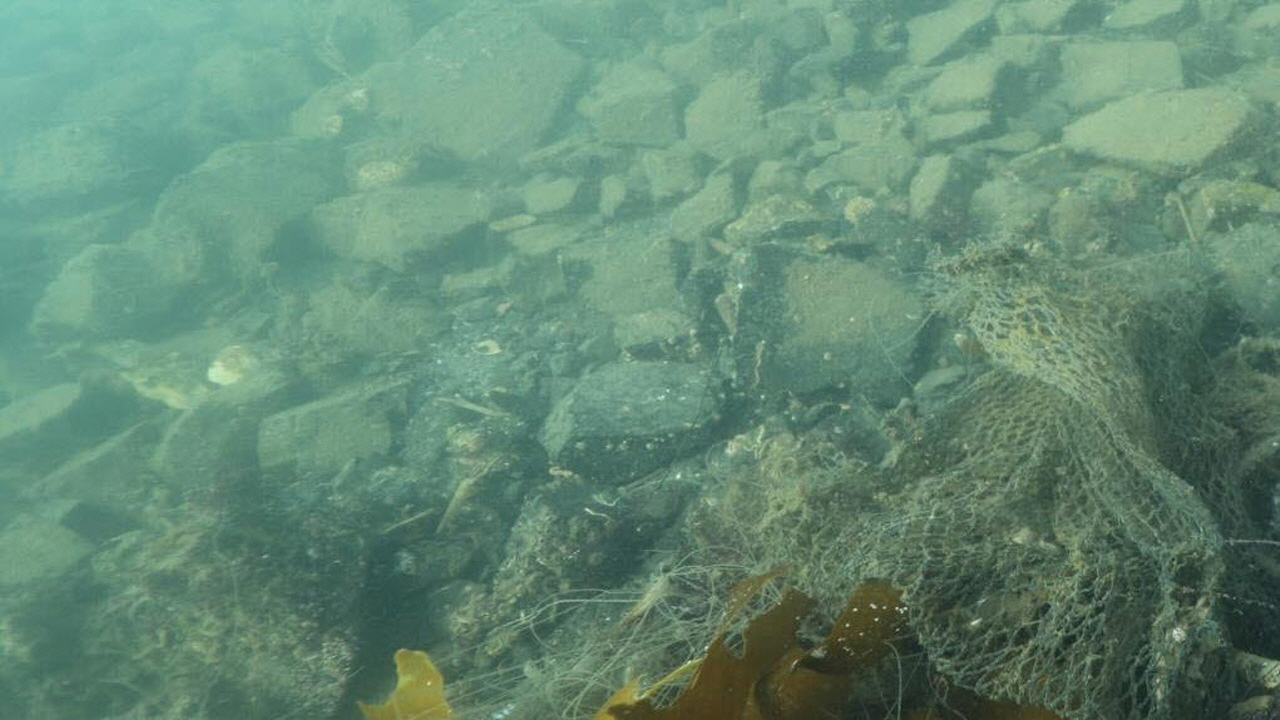fish net: (804, 254, 1280, 720)
